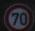Speed Limit -70-: (0, 0, 34, 30)
